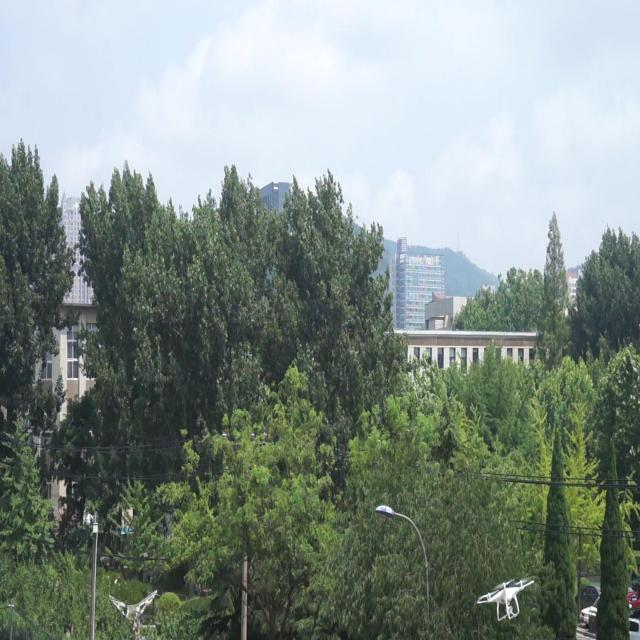UAV: (476, 578, 534, 621)
